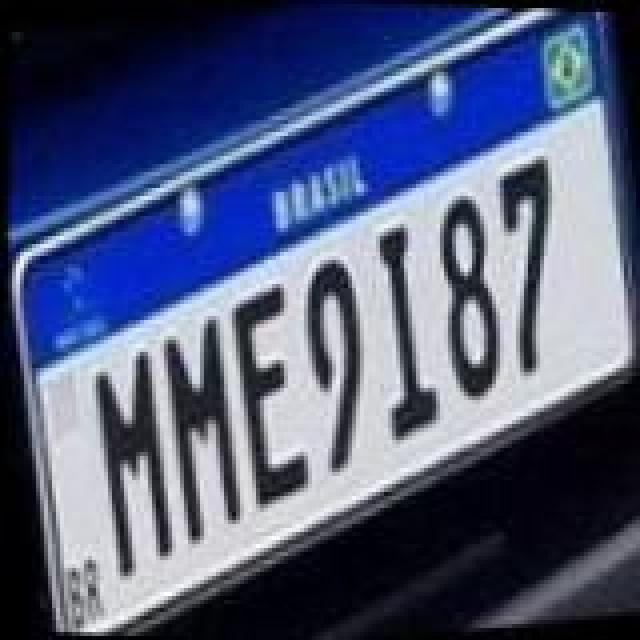7: (482, 150, 578, 378)
8: (422, 184, 518, 404)
9: (282, 252, 378, 476)
E: (214, 276, 318, 512)
I: (356, 216, 452, 444)
M: (76, 344, 180, 580), (148, 310, 252, 546)
